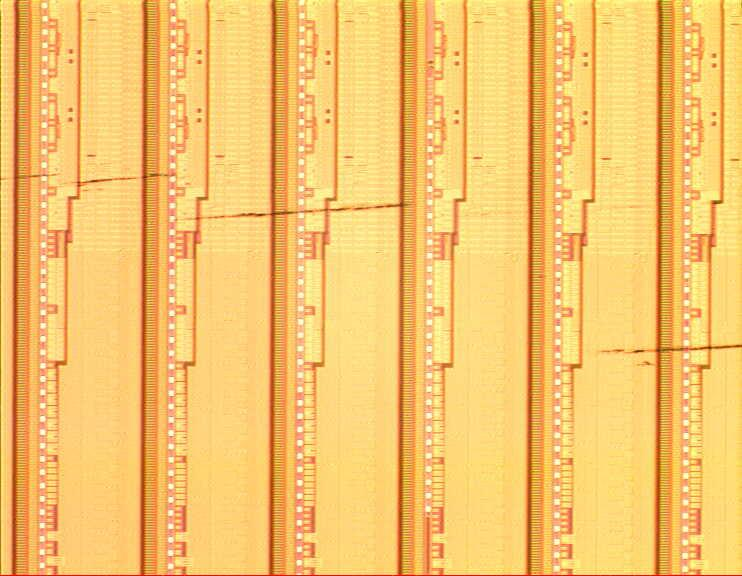SCRATCH: (1, 159, 742, 369)
